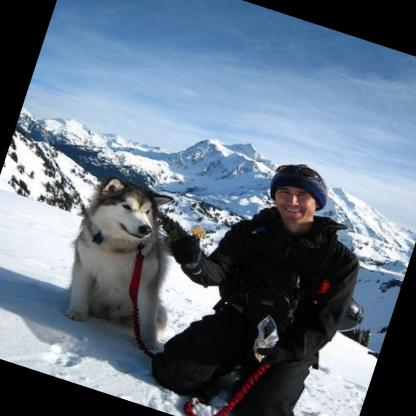malamute: (42, 162, 214, 359)
